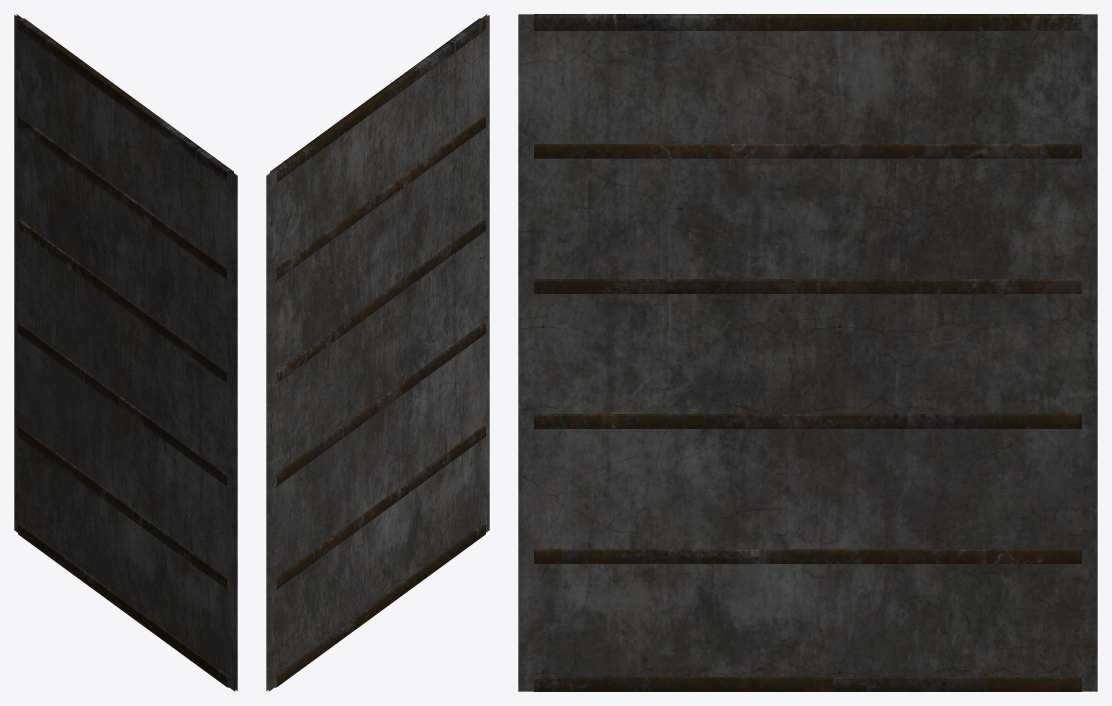
The model's file is Basement_Corridor_A_Broken_Wall_Fence_2m.glb.
3 views of the same model, side by side, from view 1: azimuth 30°, elevation 25°; view 2: azimuth 150°, elevation 25°; view 3: azimuth 270°, elevation 25° (orthographic). The views are drawn at different scales.
Visible parts, largest first — view 1: Basement_Corridor_A_Broken_Wall_Fence_2m; view 2: Basement_Corridor_A_Broken_Wall_Fence_2m; view 3: Basement_Corridor_A_Broken_Wall_Fence_2m.
Part boxes in pixels (x1,y1,x2,y2): Basement_Corridor_A_Broken_Wall_Fence_2m: (14, 14, 237, 691); Basement_Corridor_A_Broken_Wall_Fence_2m: (266, 14, 489, 691); Basement_Corridor_A_Broken_Wall_Fence_2m: (518, 14, 1097, 691).
Bounding box in the file's own units: 0.0347 × 2.49 × 1.93.
Materials: 2 (2 with a texture image).
